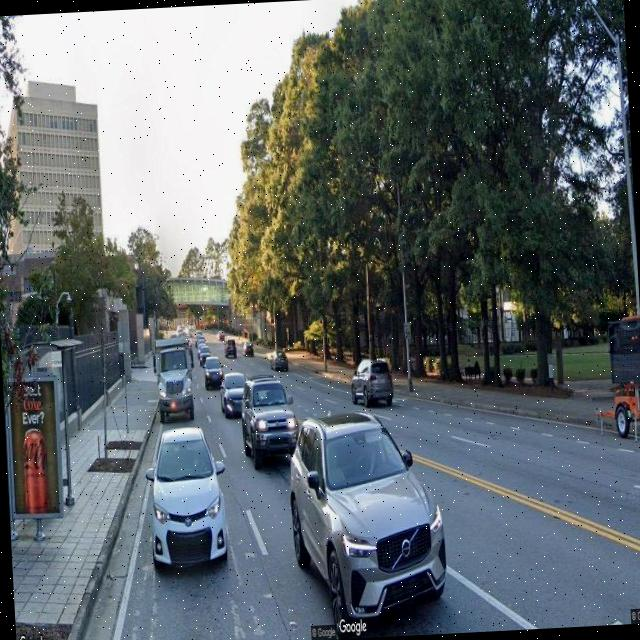shelter: (0, 334, 96, 546)
